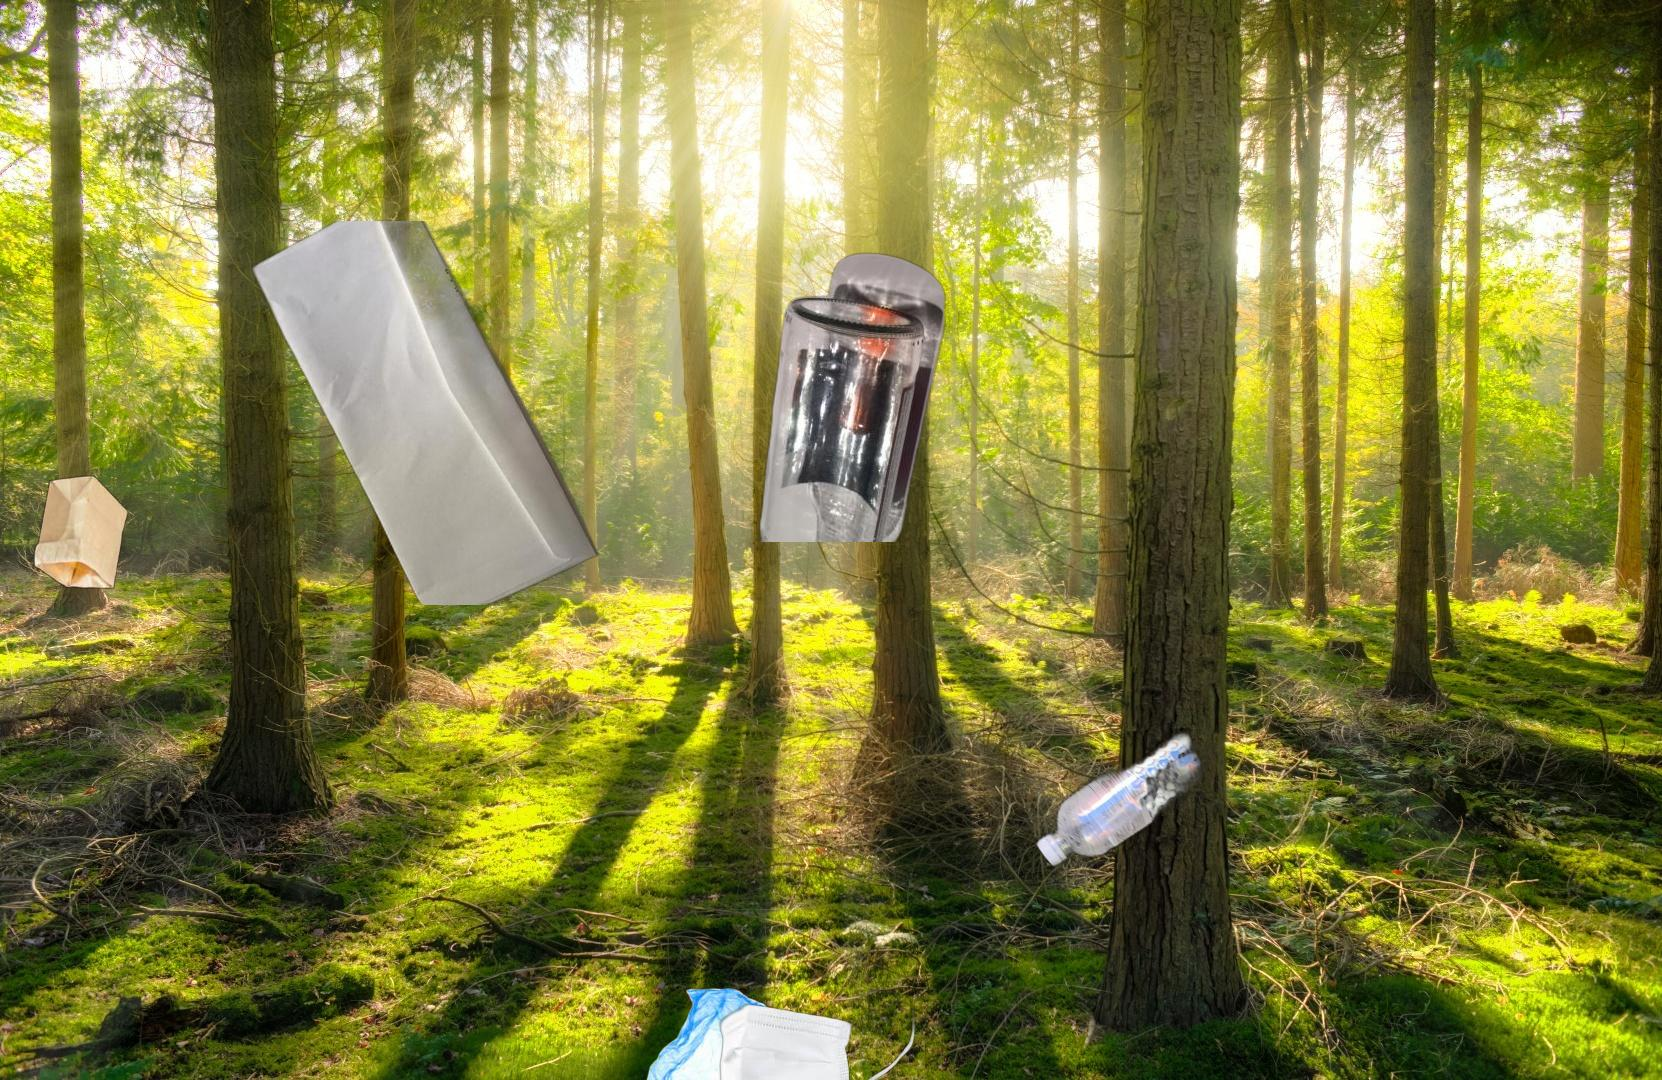glass: (755, 249, 949, 542)
paper: (248, 222, 680, 605)
paper-bag: (31, 473, 128, 590)
plastic-bag: (634, 984, 849, 1080)
plastic-bottles: (887, 599, 1399, 896)
trash: (717, 1001, 918, 1080)
